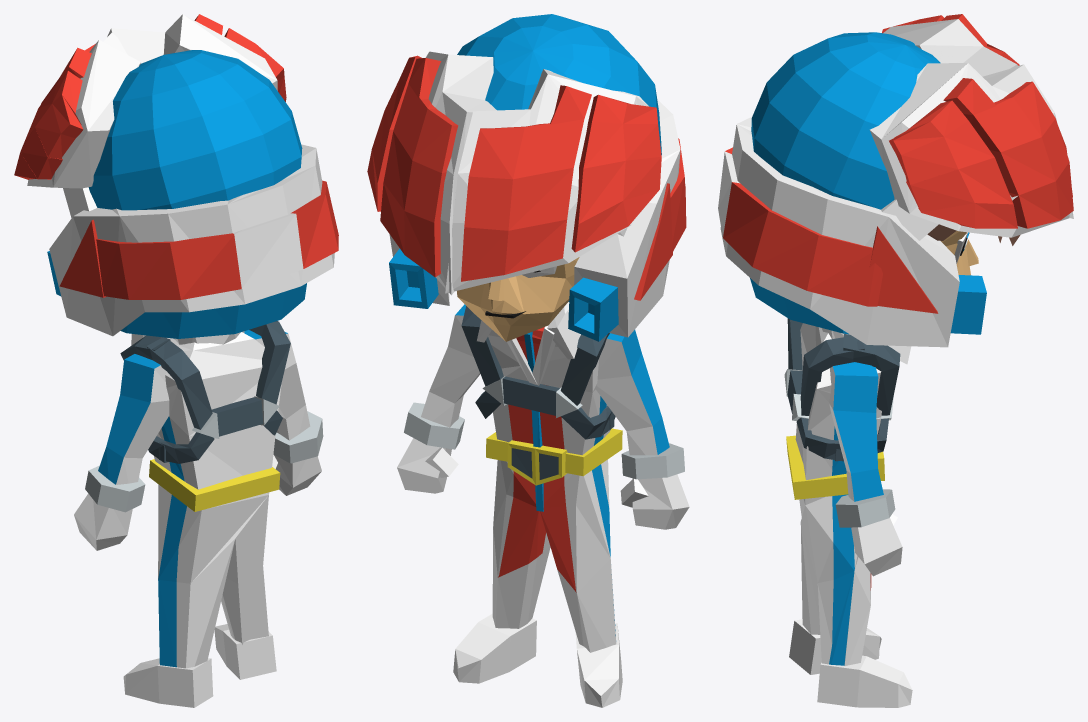
File: scene_rp3CdhnMQ0.glb
3 views of the same model, side by side, from view 1: azimuth 30°, elevation 25°; view 2: azimuth 150°, elevation 25°; view 3: azimuth 270°, elevation 25° (orthographic). The views are drawn at different scales.
Parts seen in each view (by area): view 1: group683114102, group569162122; view 2: group683114102, group569162122, group657133942; view 3: group683114102, group569162122, group657133942.
Part boxes in pixels (x1,y1,x2,y2): group683114102: (14, 14, 338, 338); group569162122: (74, 321, 323, 707); group683114102: (367, 14, 686, 341); group569162122: (397, 302, 689, 707); group657133942: (457, 257, 579, 341); group683114102: (718, 14, 1073, 347); group569162122: (784, 318, 912, 707); group657133942: (941, 231, 978, 275).
Bounding box in the file's own units: 0.4033 × 0.915 × 0.4612.
